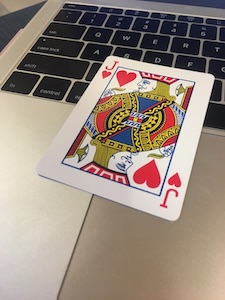JackOfHearts: (35, 52, 216, 222)
